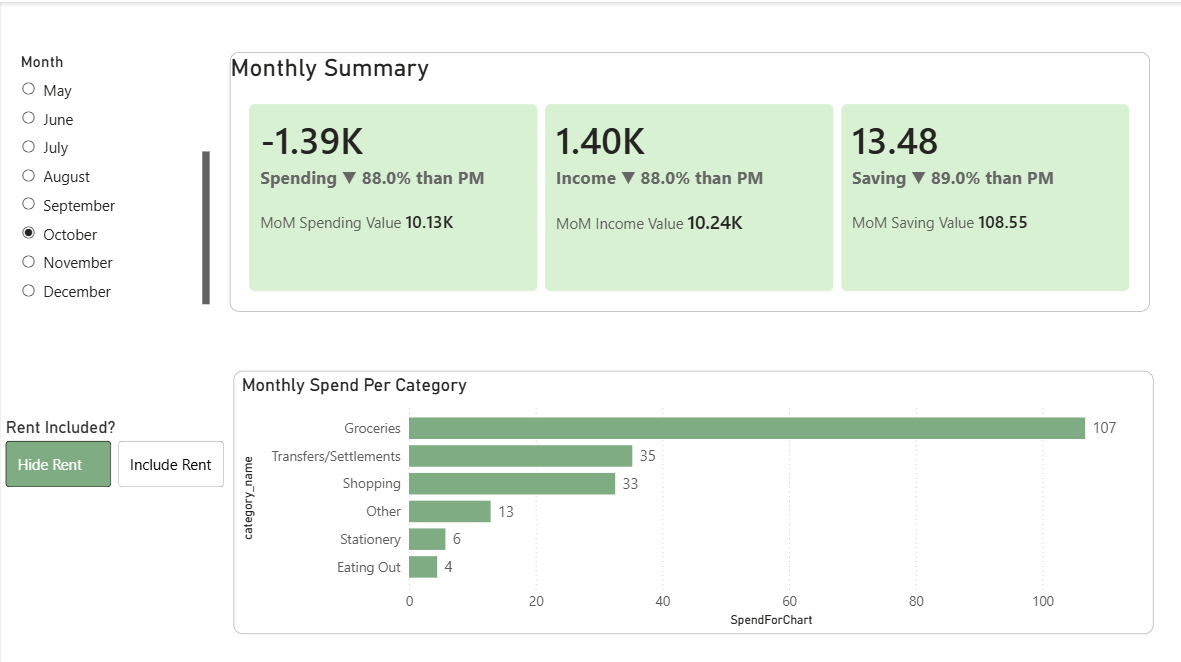

Layout of this report page (visuals, bound fields, positions):
{"tool":"powerbi","page":{"name":"Page 2","canvas":[1280,720],"ordinal":0},"visuals":[{"type":"cardVisual","title":"Monthly Summary","fields":{"Data":["public monthly_summary.current spending","public monthly_summary.current income","public monthly_summary.current saving"]},"box":[246.6,53.9,991.9,280.3],"z":0},{"type":"listSlicer","fields":{"Values":["public monthly_summary.month.Variation.Date Hierarchy.Month"]},"box":[16.2,53.9,214.3,280.3],"z":2000},{"type":"barChart","title":"Monthly Spend Per Category","fields":{"Category":["public spend_per_category_per_month.category_name"],"Y":["public spend_per_category_per_month.SpendForChart"]},"box":[250.7,397.6,991.9,284.4],"z":3000},{"type":"advancedSlicerVisual","title":"Rent Included?","fields":{"Values":["toggle_rent_page1.show_rent"]},"box":[0,447.4,246.6,80.9],"z":4000}]}

Visuals, with their boxes in screenshot pixels (x1, y1, x2, y2), scaled from the page's 1280x720 canvas onto the 1181x662 screenshot:
"Monthly Summary" cardVisual: 228, 50, 1143, 307
listSlicer - public monthly_summary.month.Variation.Date Hierarchy.Month: 15, 50, 213, 307
"Monthly Spend Per Category" barChart: 231, 366, 1146, 627
"Rent Included?" advancedSlicerVisual: 0, 411, 228, 486
